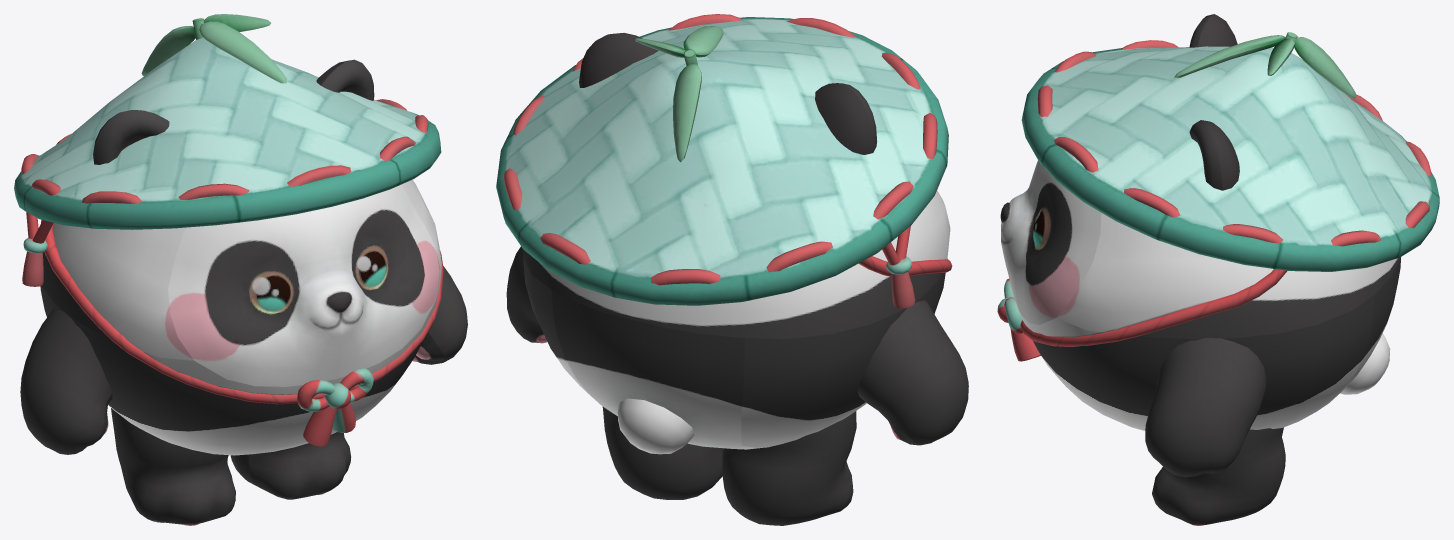
Rendered from boy_b.glb.
The picture shows the model from 3 angles, left to right: view 1: azimuth 30°, elevation 25°; view 2: azimuth 150°, elevation 25°; view 3: azimuth 270°, elevation 25°; orthographic projection. The views are drawn at different scales.
Parts seen in each view (by area): view 1: Object_6, Object_4; view 2: Object_4, Object_6; view 3: Object_6, Object_4.
Boxes of the visible parts, x1=… form: Object_6: x1=20, y1=59, x2=467, y2=525; Object_4: x1=14, y1=14, x2=443, y2=446; Object_4: x1=496, y1=14, x2=952, y2=308; Object_6: x1=506, y1=33, x2=968, y2=525; Object_6: x1=1000, y1=14, x2=1400, y2=525; Object_4: x1=997, y1=32, x2=1439, y2=361.
Bounding box in the file's own units: 2.26 × 2.29 × 2.02.
Materials: 2 (2 with a texture image).
